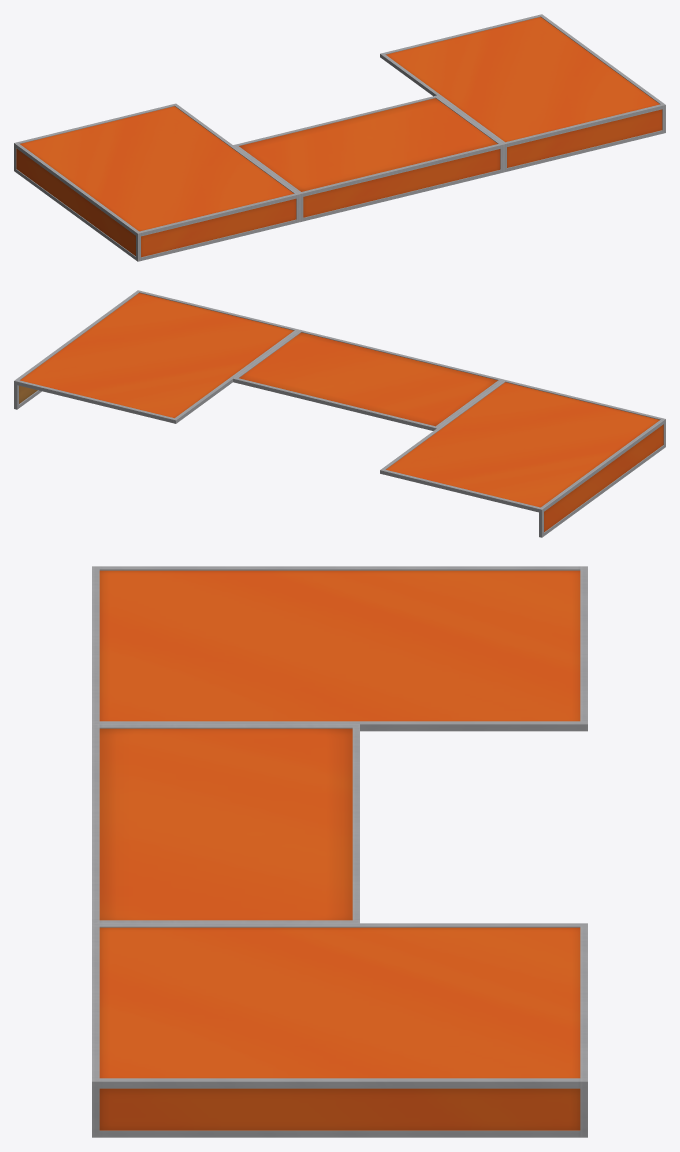
Rendered from jsf_2P_s02_c01_t04_DX.fbx.
3 views of the same model, one above another, from view 1: azimuth 30°, elevation 25°; view 2: azimuth 150°, elevation 25°; view 3: azimuth 270°, elevation 25° (orthographic). The views are drawn at different scales.
Parts seen in each view (by area): view 1: jsf_2P_s02_c01_t04_DX; view 2: jsf_2P_s02_c01_t04_DX; view 3: jsf_2P_s02_c01_t04_DX.
Boxes of the visible parts, bbox=[...] form: jsf_2P_s02_c01_t04_DX: bbox=[14, 14, 665, 261]; jsf_2P_s02_c01_t04_DX: bbox=[14, 290, 665, 537]; jsf_2P_s02_c01_t04_DX: bbox=[92, 566, 587, 1137].
Size of the model in its own units: 246 by 12.51 by 100.
